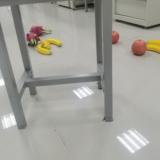apple: (131, 39, 147, 56), (109, 30, 120, 45)
pitaya: (29, 26, 53, 37), (23, 33, 41, 46)
